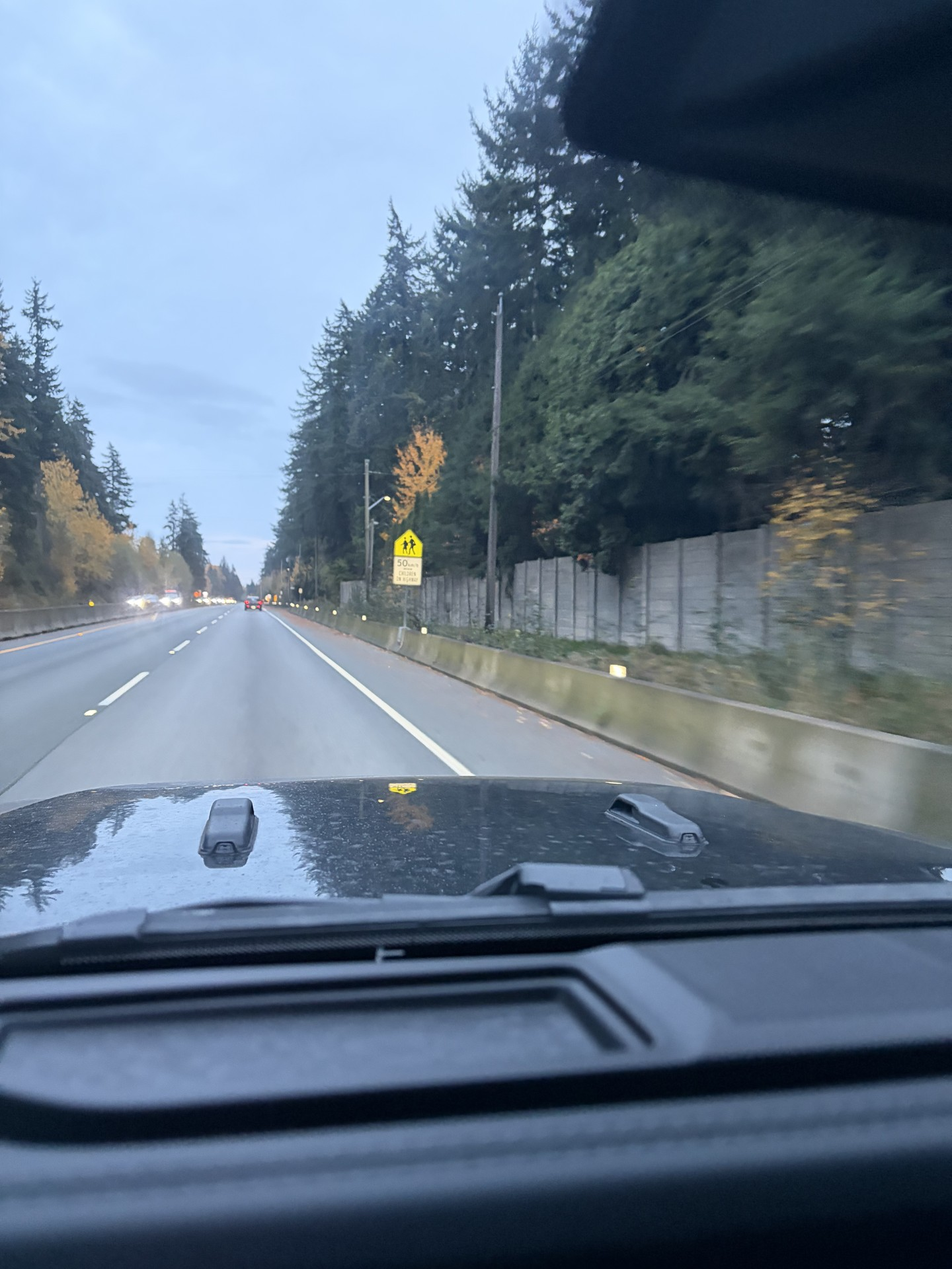school_zone: (387, 516, 431, 556)
speed_limit: (387, 557, 431, 586)
